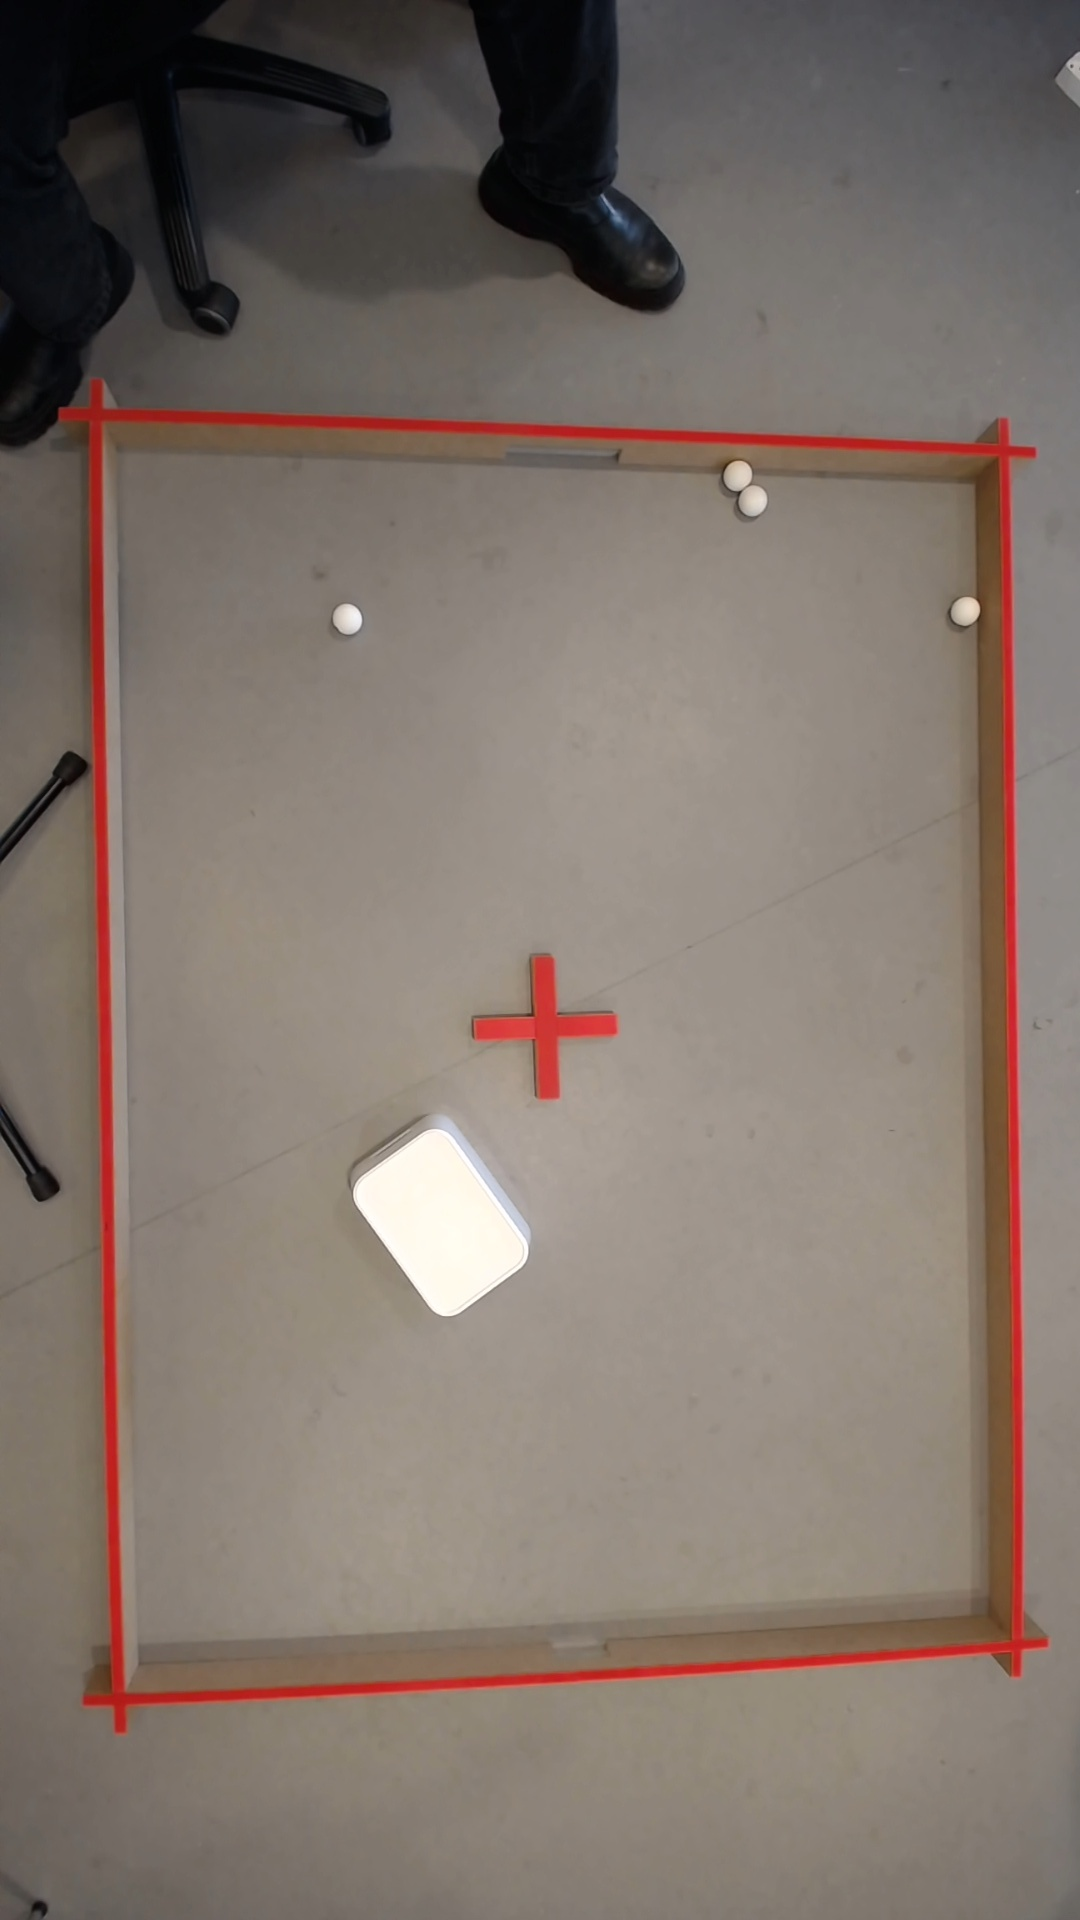balls: (343, 1113, 545, 1325), (331, 599, 367, 636), (740, 483, 770, 516), (957, 597, 978, 621)
car: (727, 459, 756, 489)
